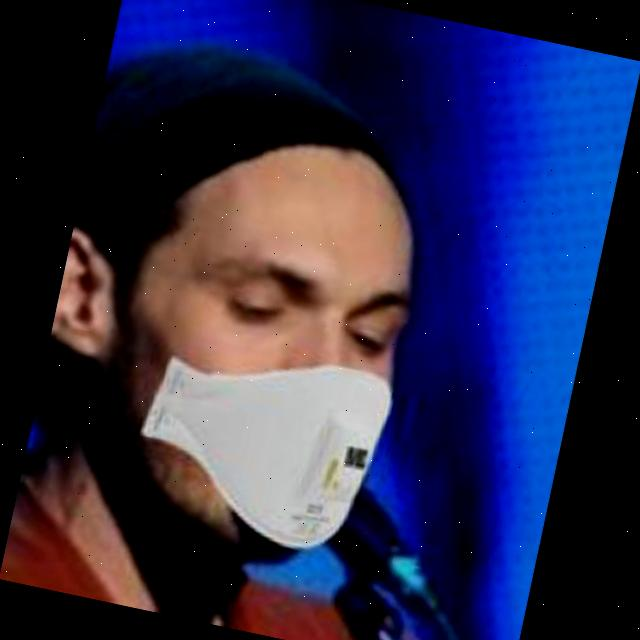suspicion: (42, 73, 443, 555)
